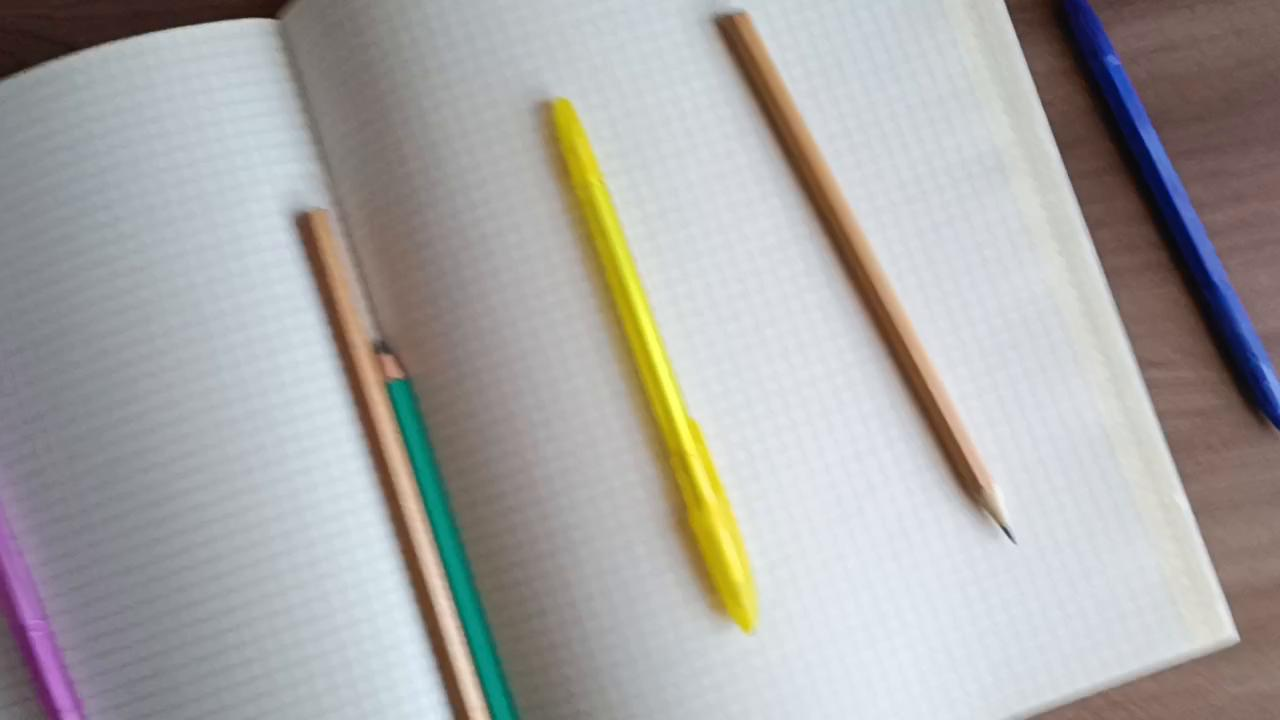pen: (541, 96, 767, 640), (1049, 0, 1280, 435), (0, 496, 94, 717)
pencil: (713, 15, 1019, 550), (284, 202, 490, 720), (373, 335, 523, 720)
